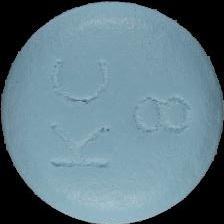67544-154: (0, 0, 224, 224)
